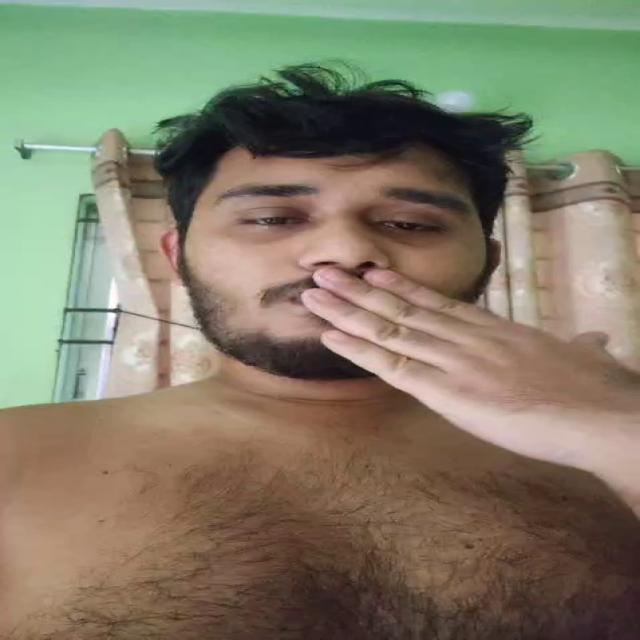Thanks: (297, 267, 640, 465)
